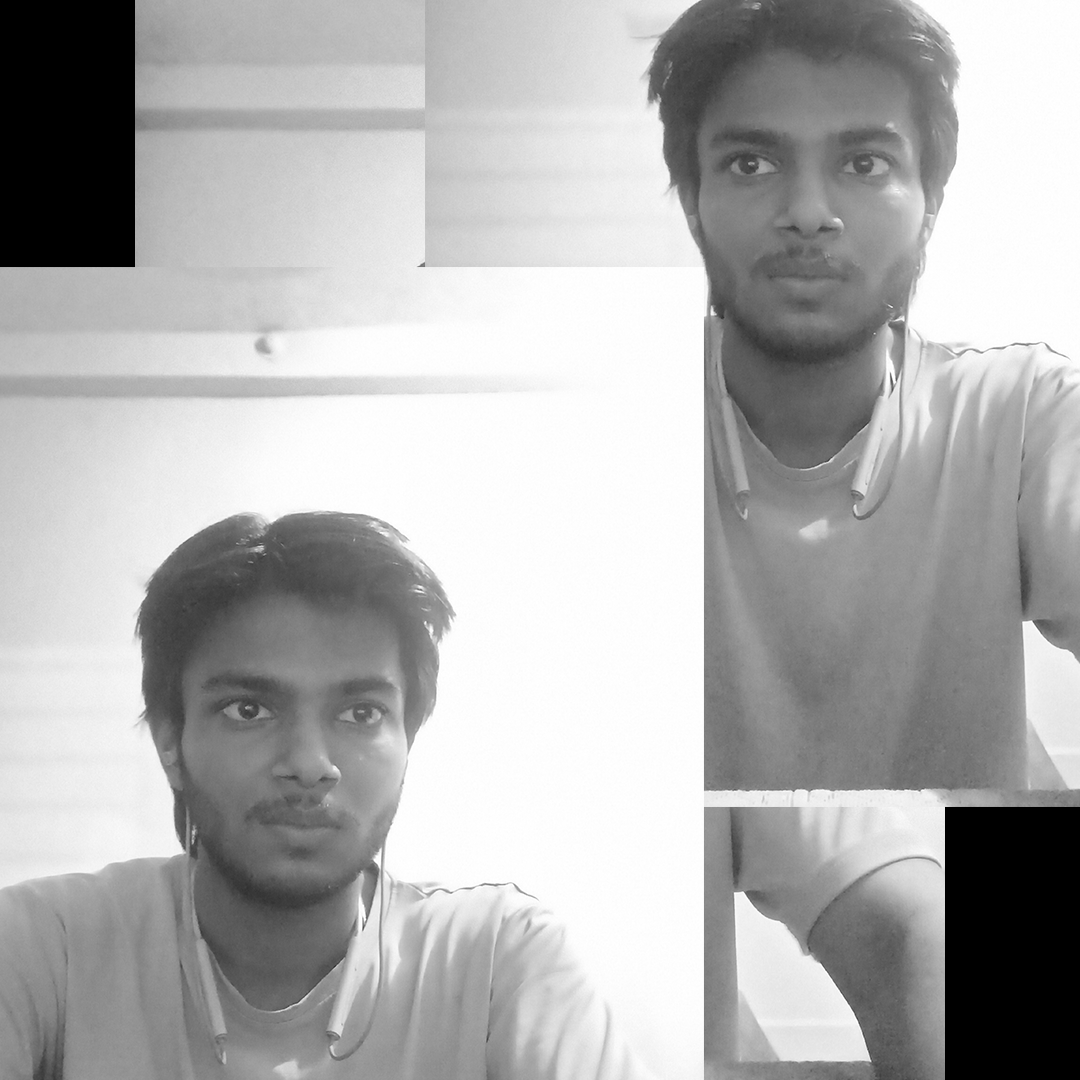Focused: (90, 444, 509, 1015), (573, 14, 1021, 449)
